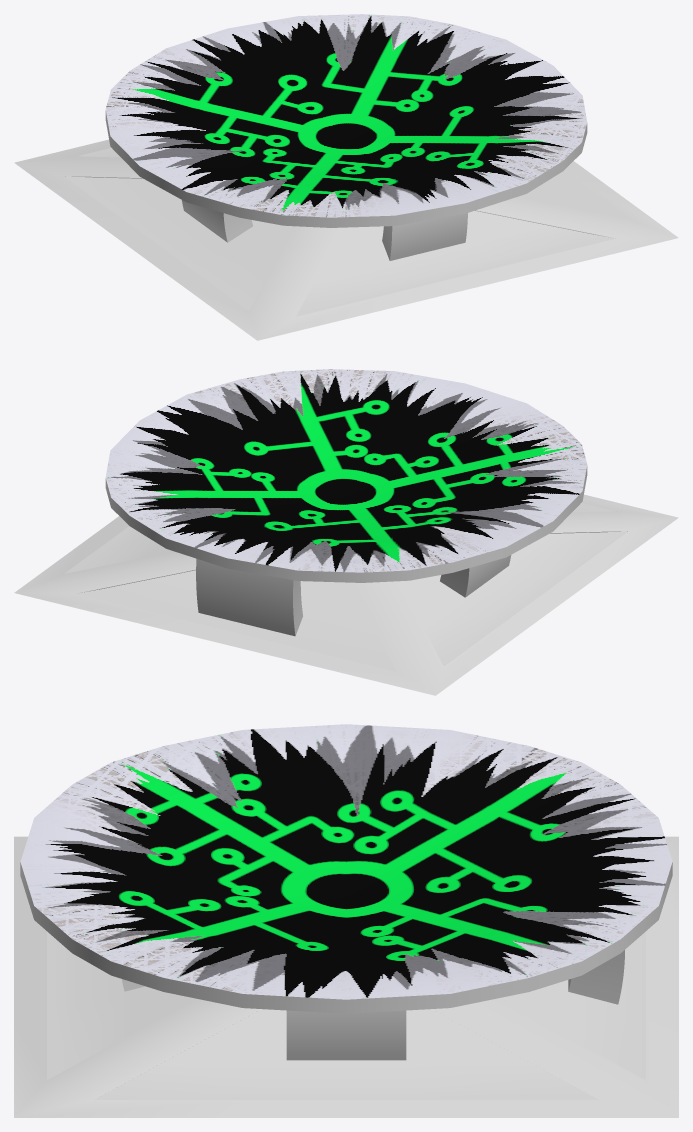
The model's file is recievergreen.fbx.
3 renders of one model, top to bottom at view 1: azimuth 30°, elevation 25°; view 2: azimuth 150°, elevation 25°; view 3: azimuth 270°, elevation 25°, orthographic. The views are drawn at different scales.
Visible parts, largest first — view 1: Cube.001, Cube.003, Cube, Cube.002; view 2: Cube.001, Cube.003, Cube, Cube.002; view 3: Cube.001, Cube.003, Cube, Cube.002.
Boxes of the visible parts, left/top/right/bottom form: Cube.001: left=105, top=14, right=587, bottom=217; Cube.003: left=64, top=148, right=628, bottom=316; Cube: left=14, top=139, right=678, bottom=340; Cube.002: left=105, top=111, right=587, bottom=227; Cube.001: left=105, top=369, right=587, bottom=572; Cube.003: left=64, top=503, right=628, bottom=671; Cube: left=14, top=494, right=678, bottom=695; Cube.002: left=105, top=466, right=587, bottom=582; Cube.001: left=20, top=724, right=672, bottom=999; Cube.003: left=47, top=931, right=645, bottom=1099; Cube: left=14, top=836, right=678, bottom=1117; Cube.002: left=20, top=862, right=672, bottom=1013.
Bounding box in the file's own units: 200 × 38.29 × 200.
Materials: 4 (1 with a texture image).
